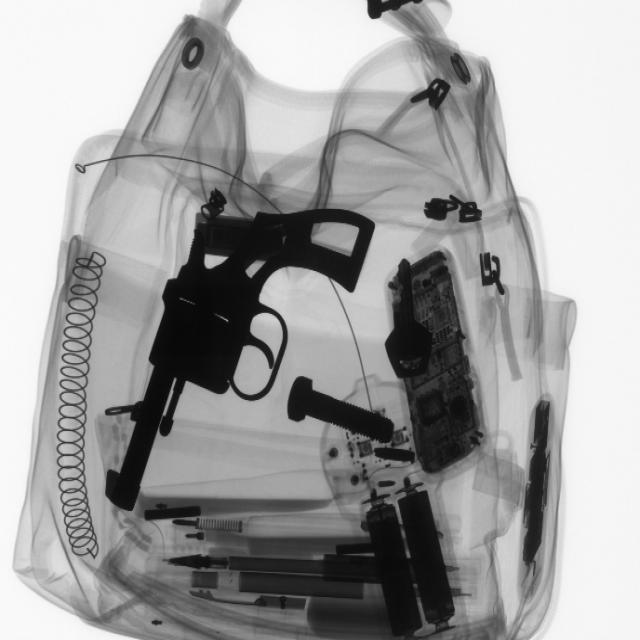GUN: (93, 202, 385, 495)
